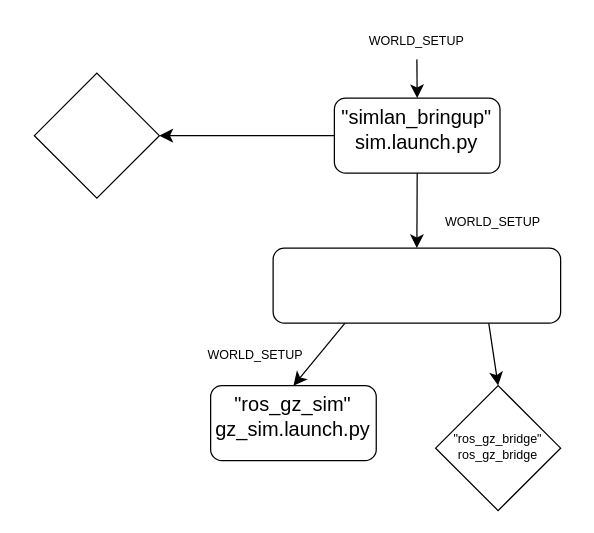
Image size: 594x533. Some labels were removed from this diagram. The box of each missing label's shape, as (x1, y1, x2, y2) in pixels:
"rviz2" rviz2: (33, 72, 159, 198)
"simlan_gazebo_environment" simlan_factory.launch.py: (272, 247, 561, 323)
